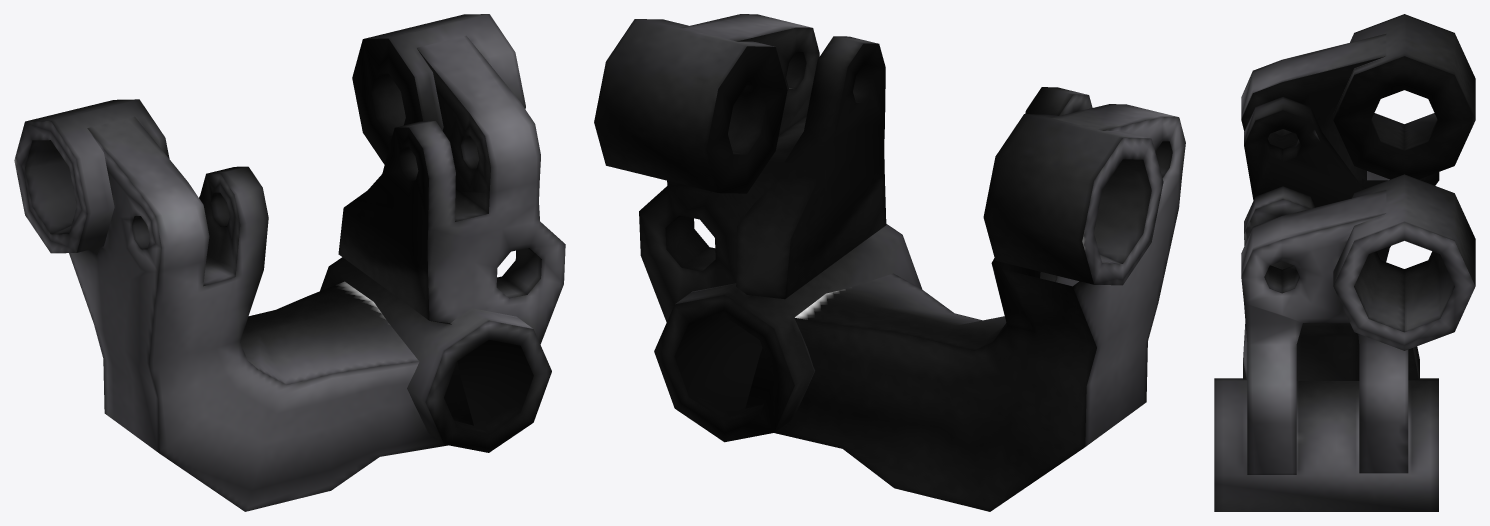
Rendered from r_lglut.dae.
3 renders of one model, left to right at view 1: azimuth 30°, elevation 25°; view 2: azimuth 150°, elevation 25°; view 3: azimuth 270°, elevation 25°, orthographic. The views are drawn at different scales.
Visible parts, largest first — view 1: r_lglut; view 2: r_lglut; view 3: r_lglut.
Part boxes in pixels (x1,y1,x2,y2): r_lglut: (14, 14, 565, 511); r_lglut: (594, 14, 1185, 511); r_lglut: (1214, 14, 1475, 511).
Size of the model in its own units: 0.1439 by 0.0762 by 0.1175.
1 material, 1 textured.
